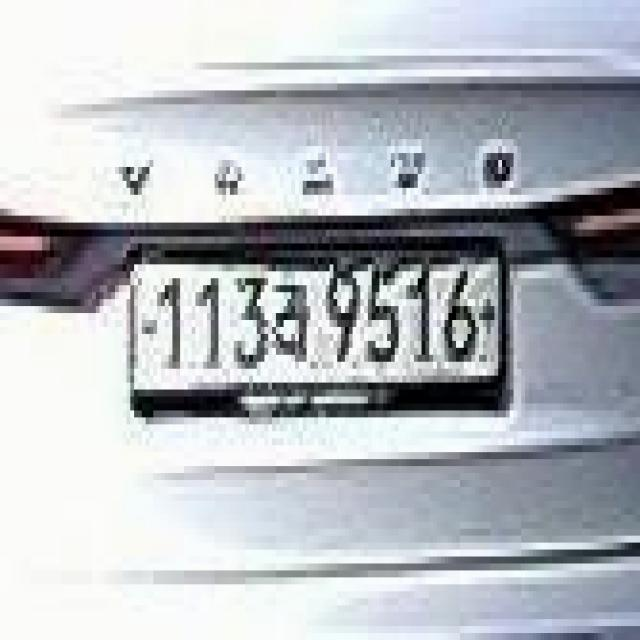illegal_plate: (123, 230, 520, 428)
